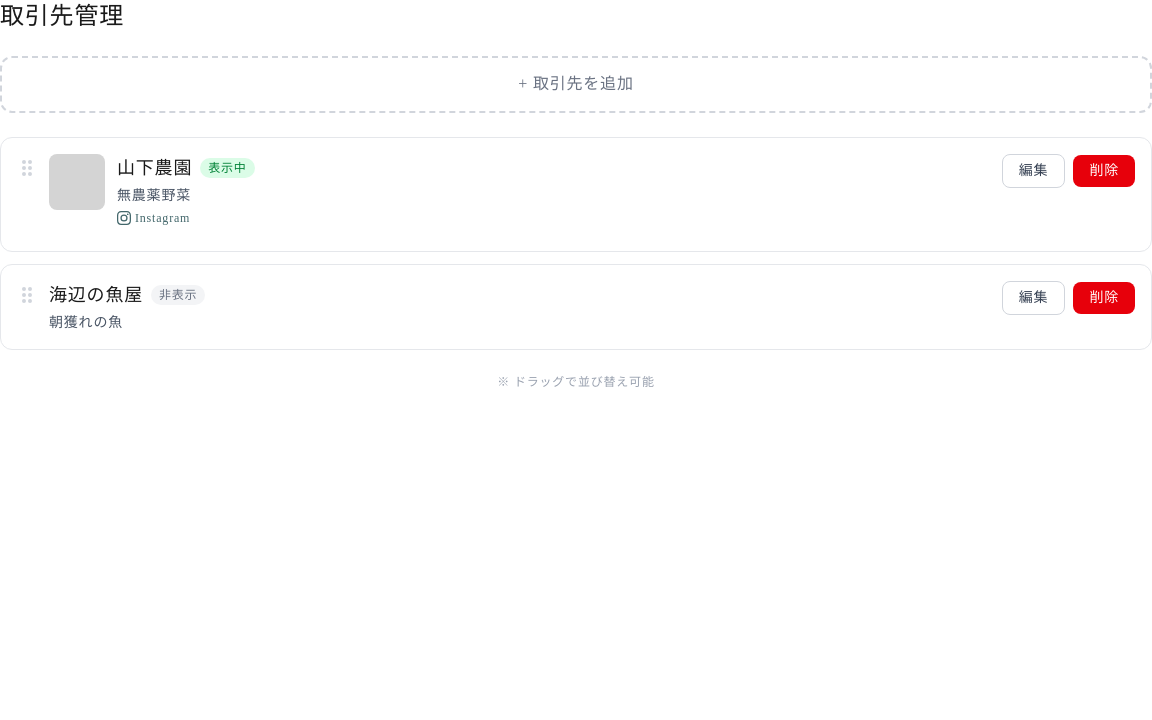
SupplierManager › 追加モーダルで必須項目が空なら保存せずエラーを表示する
This screenshot has width=1152, height=720.
Click the button "+ 取引先を追加".
click(576, 84)  # box [0,56,1151,113]
(page scrolled)
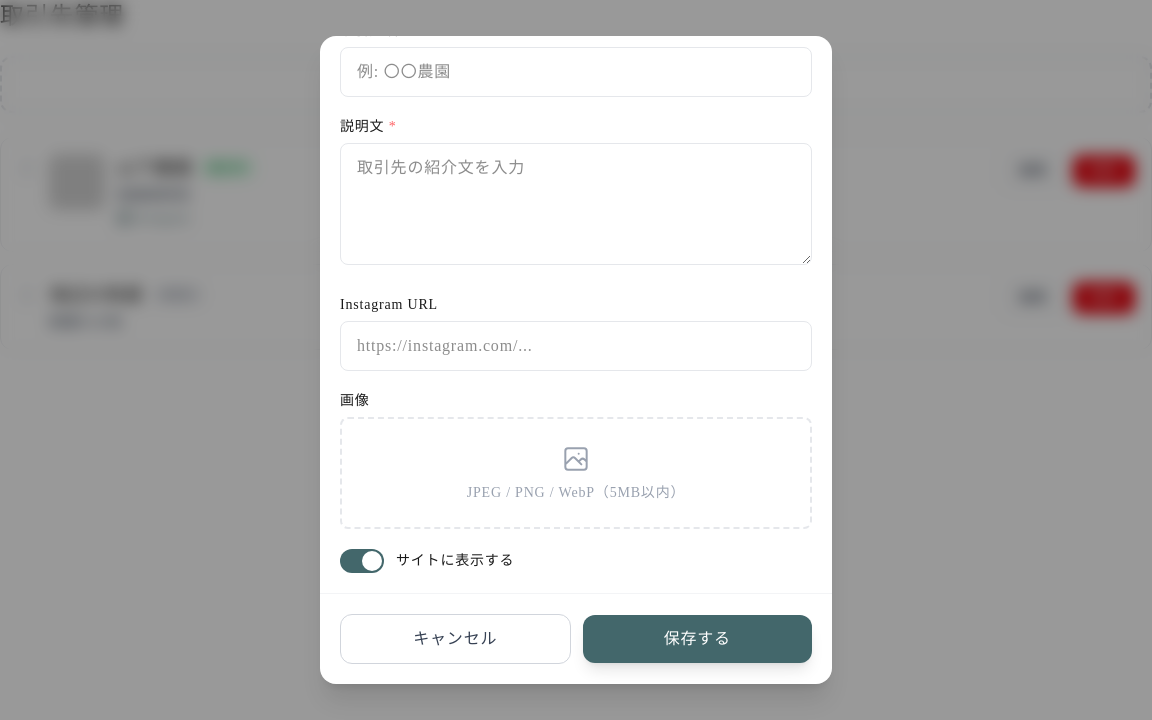
Click the button "保存する".
click(697, 639)  # box [582,615,812,663]
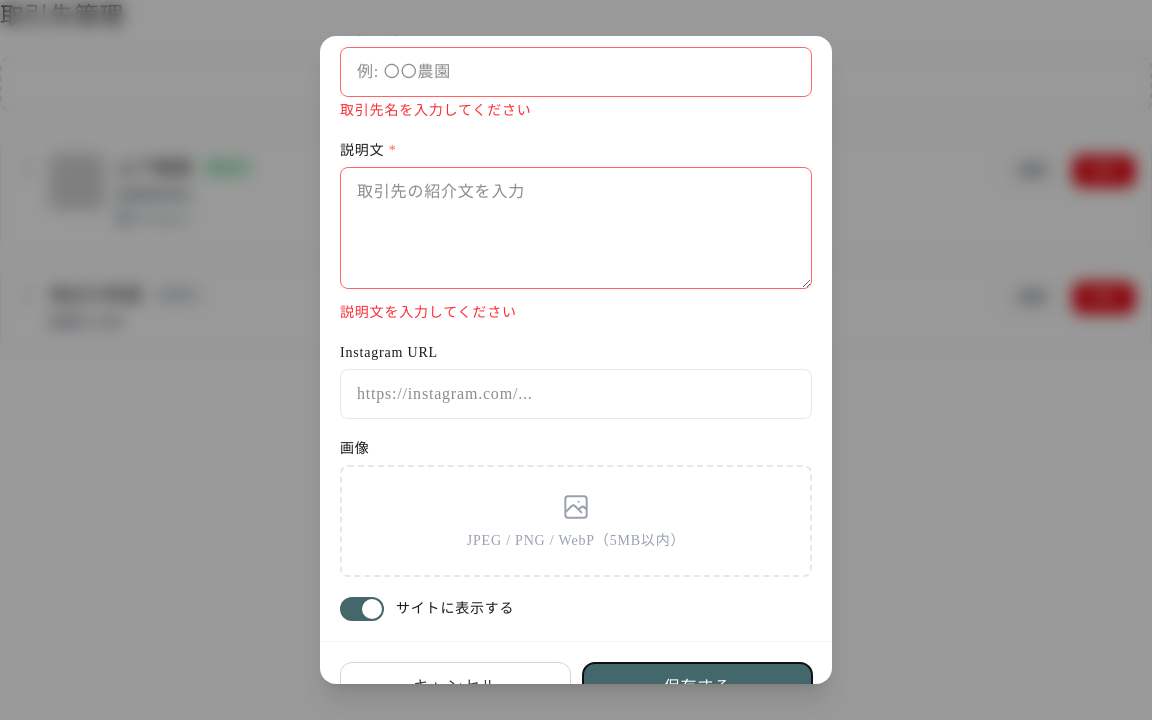
Check: the text "取引先名を入力してください" is shown, box [340,103,532,118]
Check: the text "説明文を入力してください" is shown, box [340,305,517,320]
